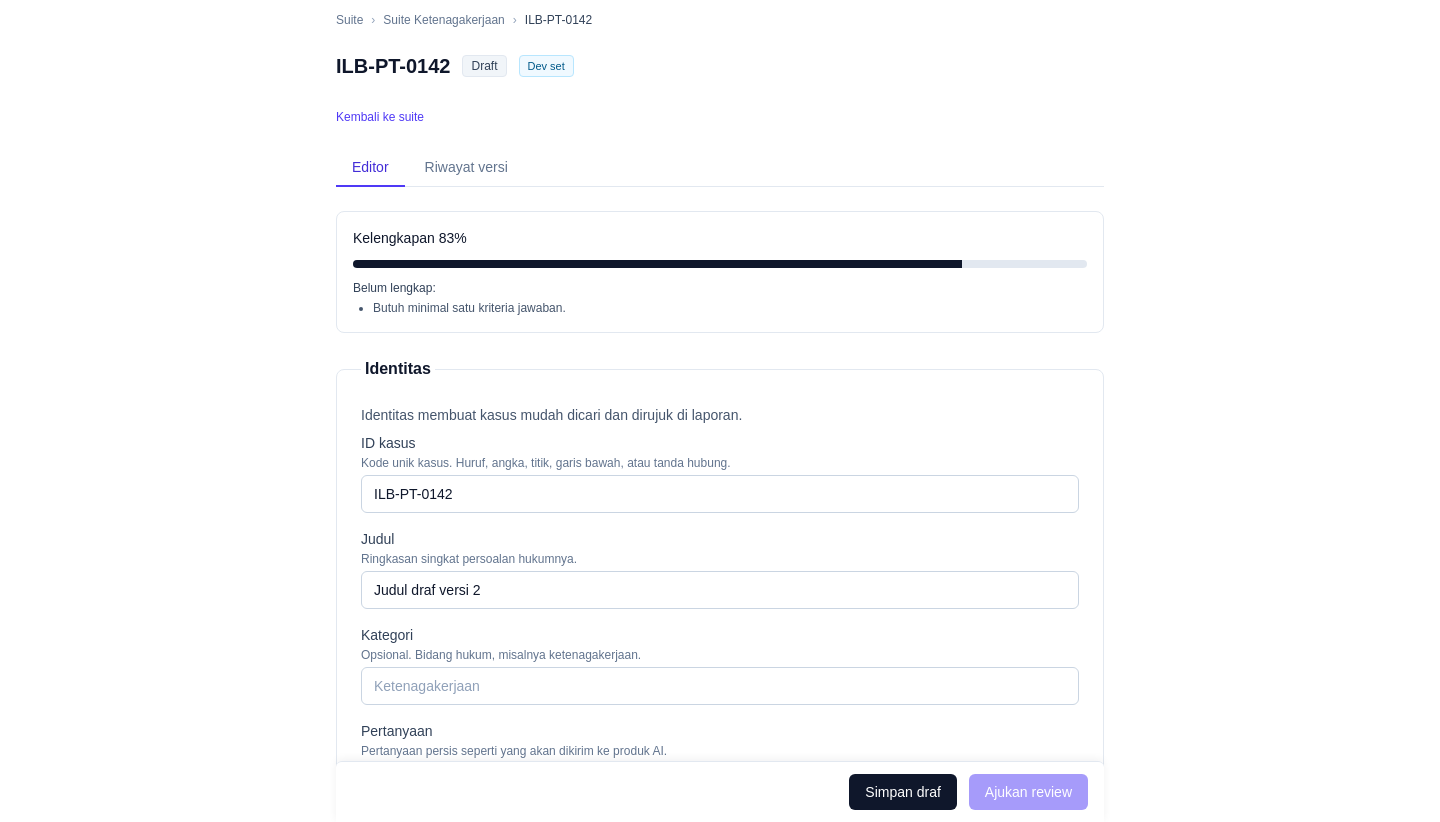
Test: EditCasePage reopening the draft (SCRUM-138) › saves the reopened draft as a normal edit
Clear the field showing "Judul draf versi 2": [720, 590] box [361,571,1079,609]
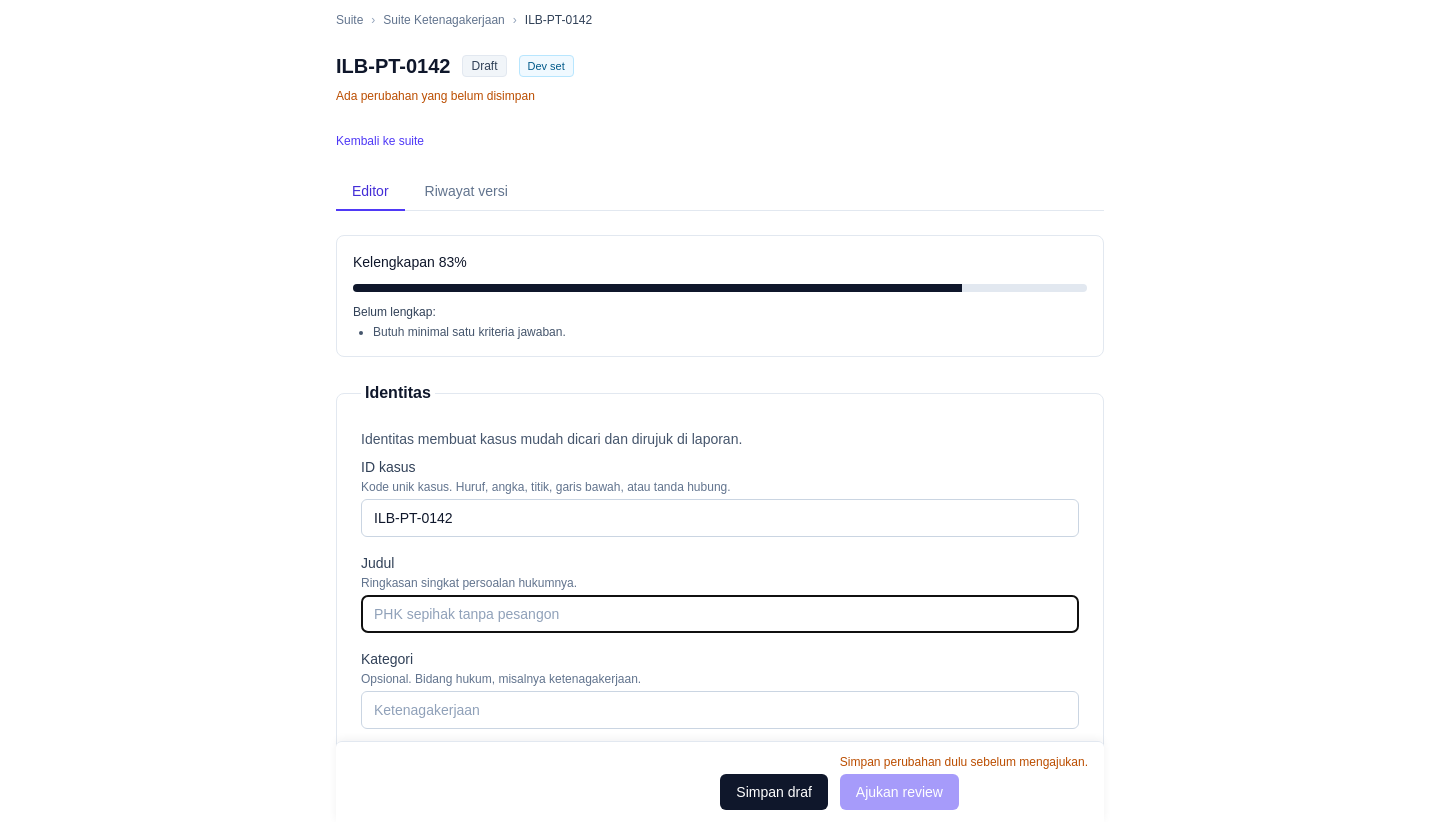
In the field showing "Judul draf versi 2": [720, 614] box [361,595,1079,633], type "Judul hasil sunting"
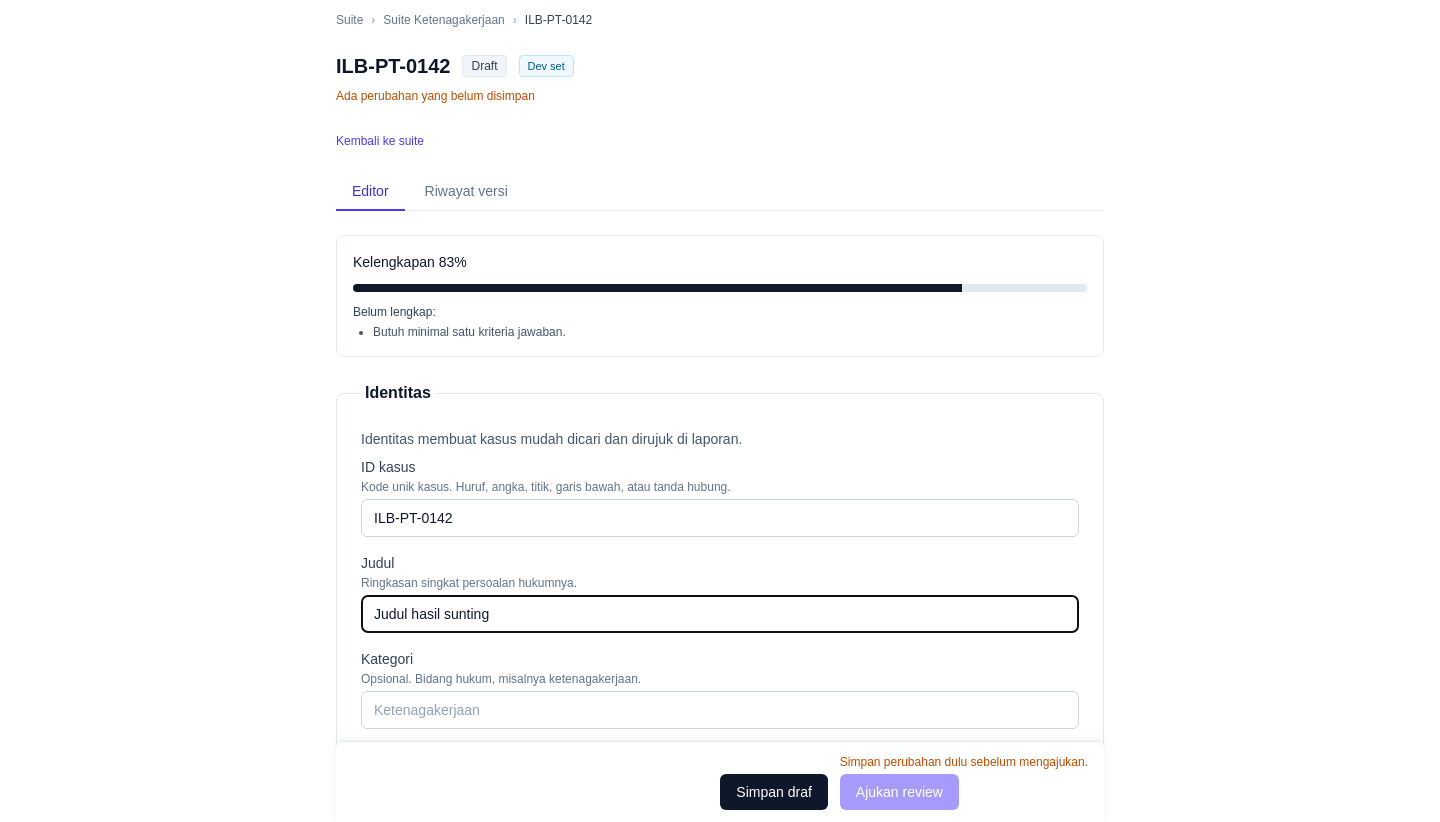
Click the button "Simpan draf": [774, 792] box [720,774,828,810]
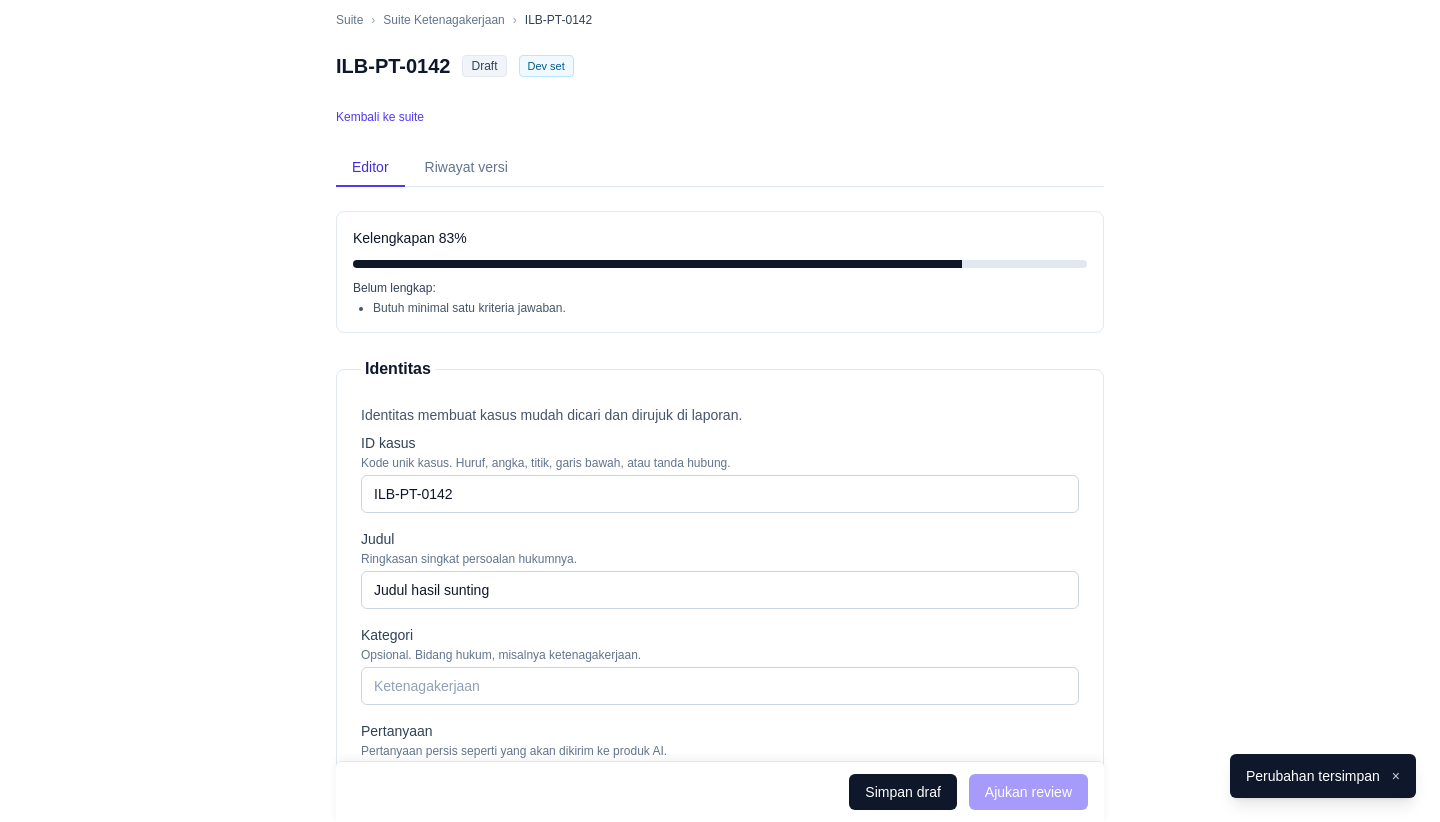
expect the field labelled "Judul" holds "Judul hasil sunting": met, box [361,571,1079,609]
expect the message named "Notifikasi" shows "Perubahan tersimpan": met, box [1246,768,1380,784]
